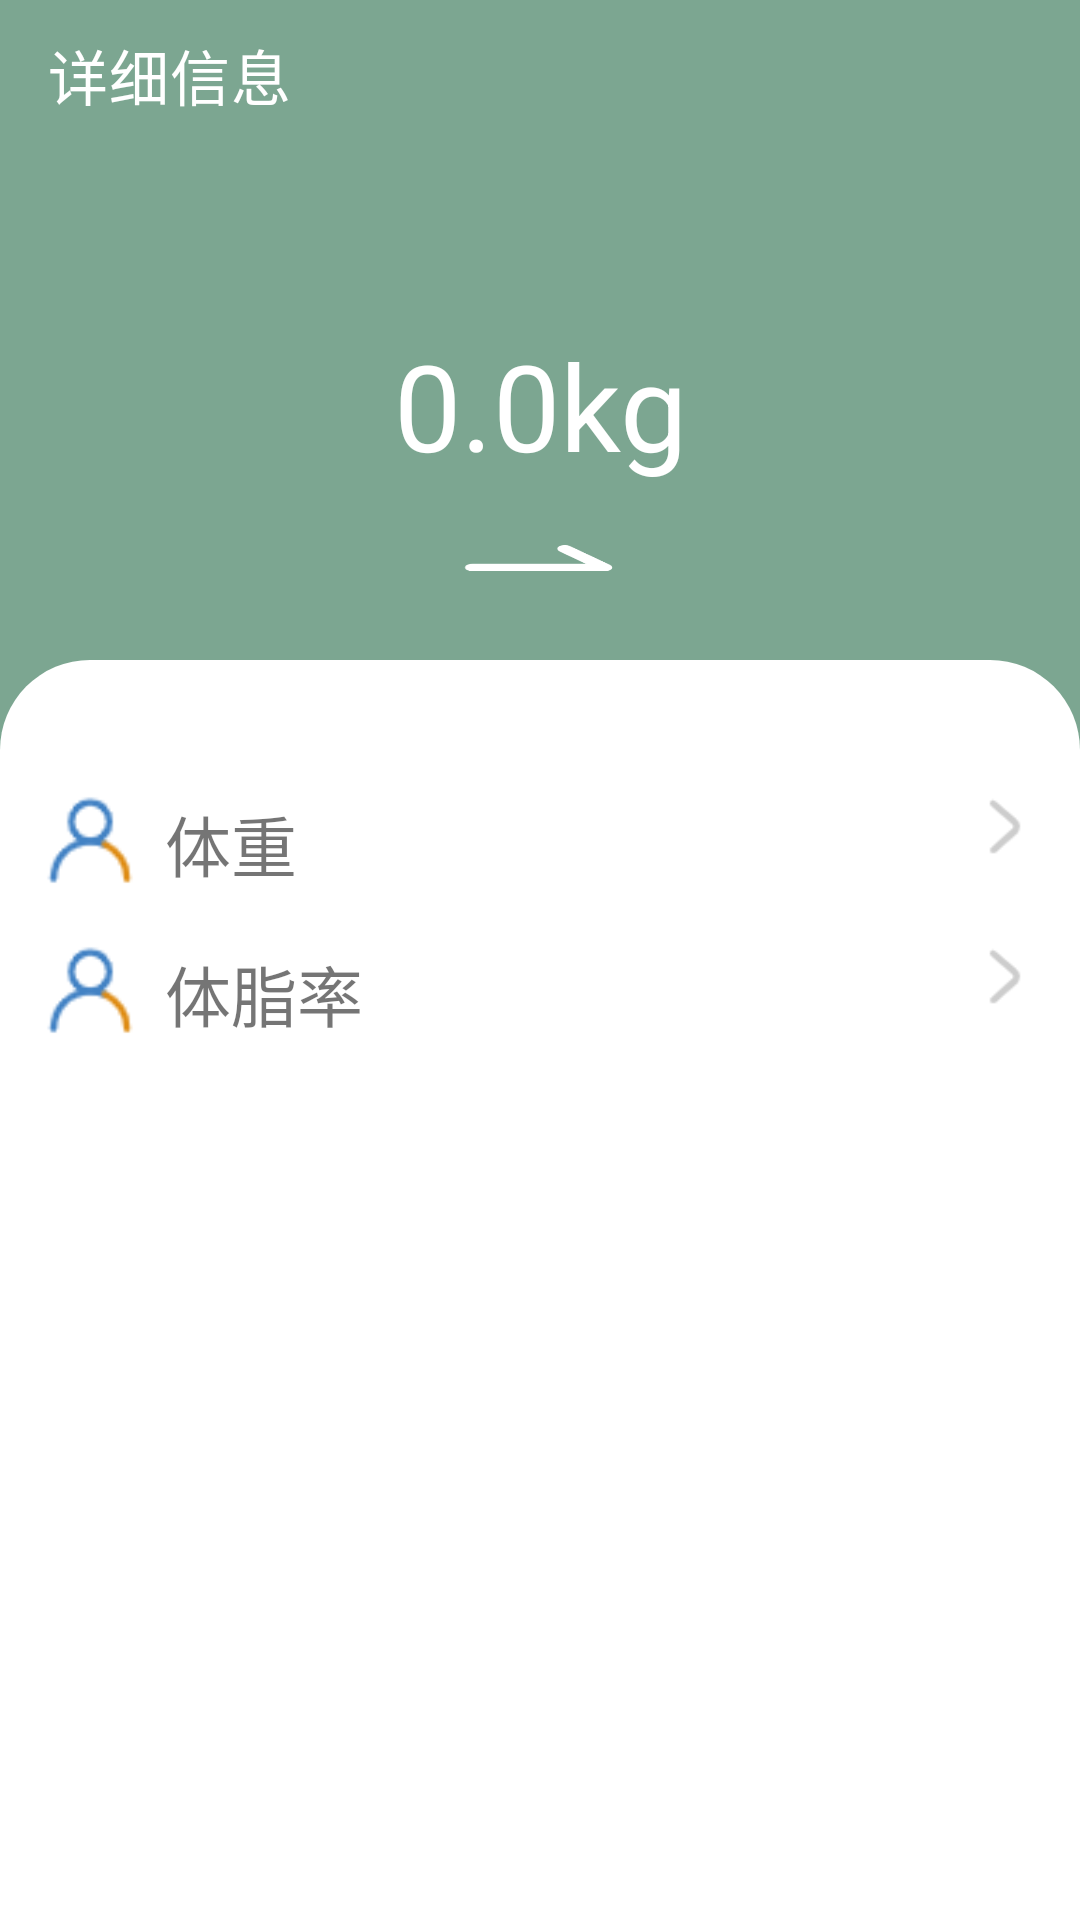

Icons on this 1080 × 1920 Android screen, each with its box as (x1, y1, x2, y2):
person: (48, 797, 132, 883), (48, 947, 132, 1033)
